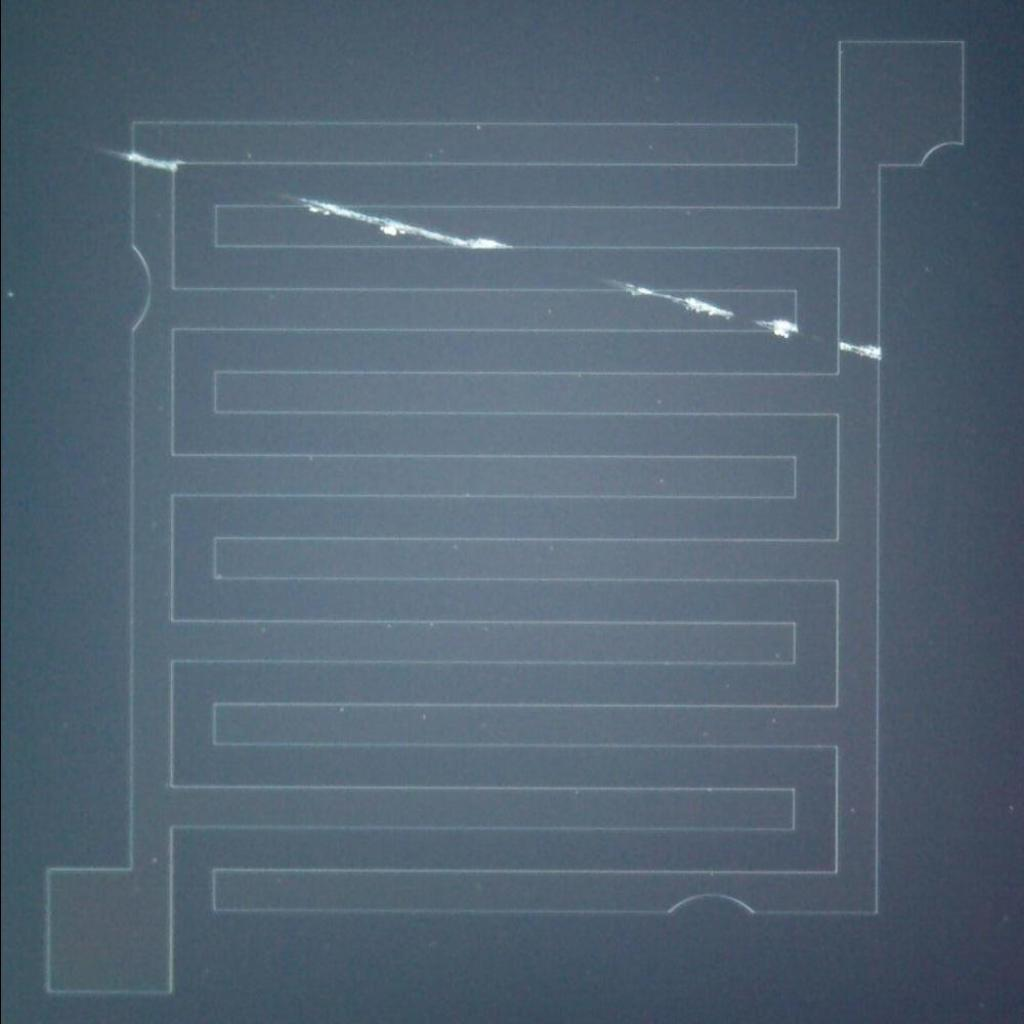curve circuit: (654, 883, 769, 931), (118, 233, 160, 346), (907, 130, 976, 174)
scratch: (606, 267, 888, 372), (279, 187, 522, 258), (102, 134, 188, 182)
